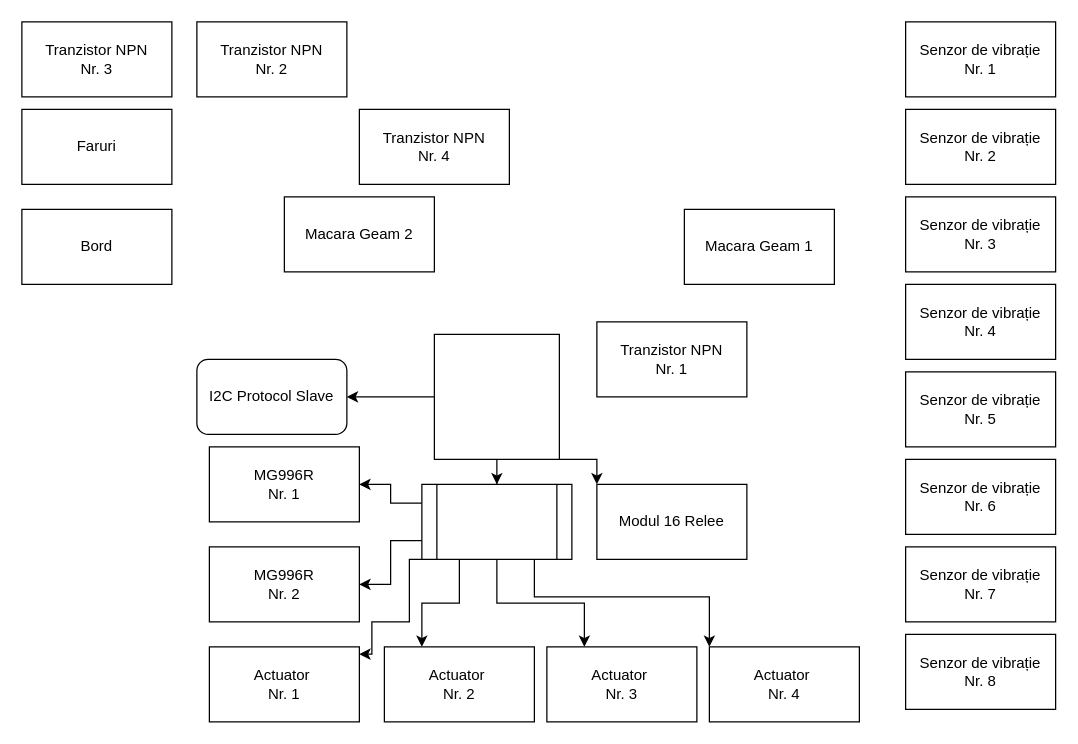
This 1078x744 diagram has some shape labels left out. The box of each missing label's shape, as (x1, y1, x2, y2) in pixels:
microcontroller (Arduino Mega 1): (433, 333, 559, 459)
Shield L293D: (421, 483, 572, 559)
